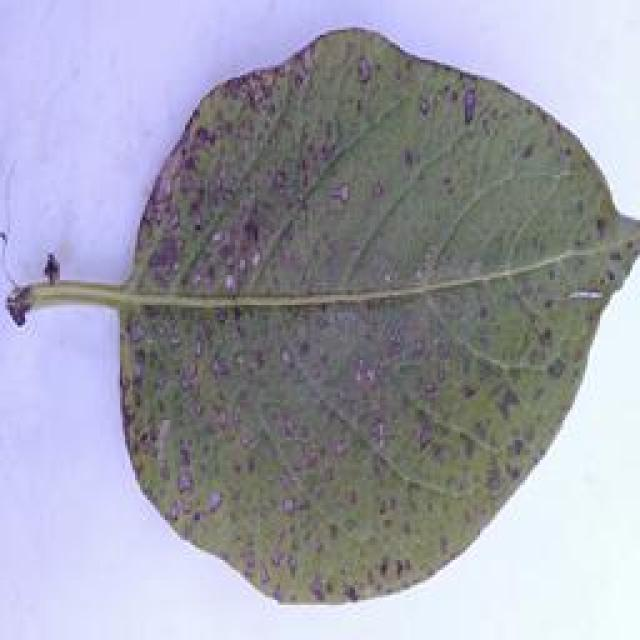Potato_Early_Blight: (109, 14, 640, 617)
